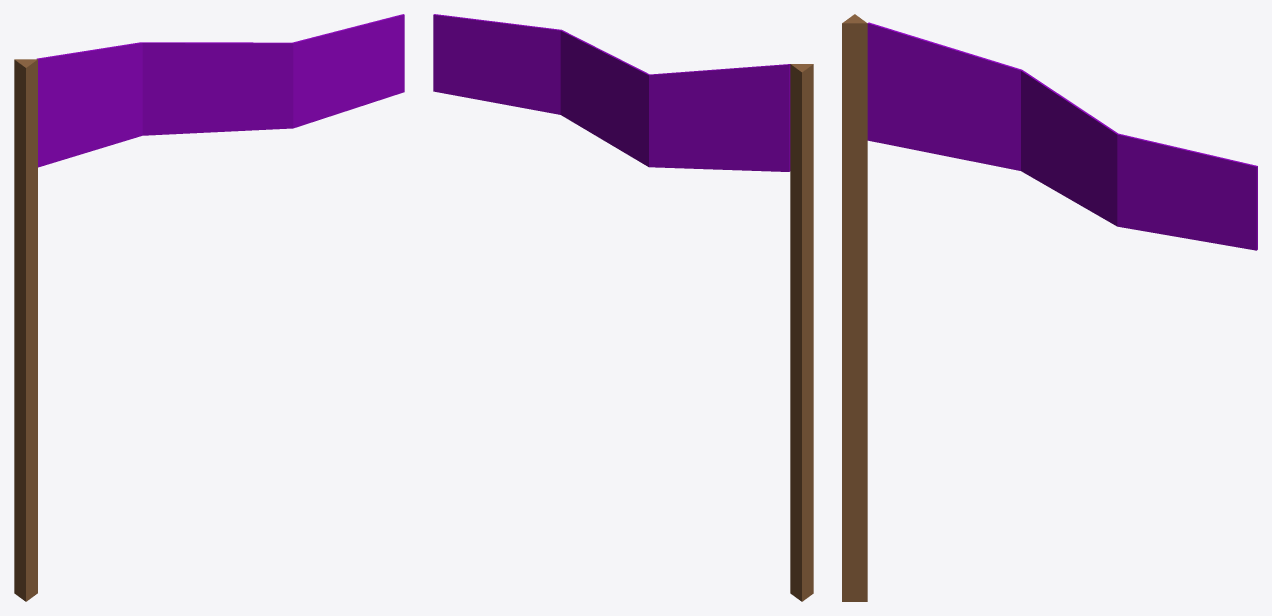
The model's file is Player_flag_violet_1_mat.fbx.
The picture shows the model from 3 angles, left to right: view 1: azimuth 30°, elevation 25°; view 2: azimuth 150°, elevation 25°; view 3: azimuth 330°, elevation 25°; orthographic projection. The views are drawn at different scales.
Visible parts, largest first — view 1: Player_flag__violet_1_mat; view 2: Player_flag__violet_1_mat; view 3: Player_flag__violet_1_mat.
Part boxes in pixels (bbox=[...]): Player_flag__violet_1_mat: bbox=[14, 14, 404, 601]; Player_flag__violet_1_mat: bbox=[433, 14, 813, 601]; Player_flag__violet_1_mat: bbox=[842, 14, 1257, 601].
Bounding box in the file's own units: 0.61 × 0.8178 × 0.0894.
